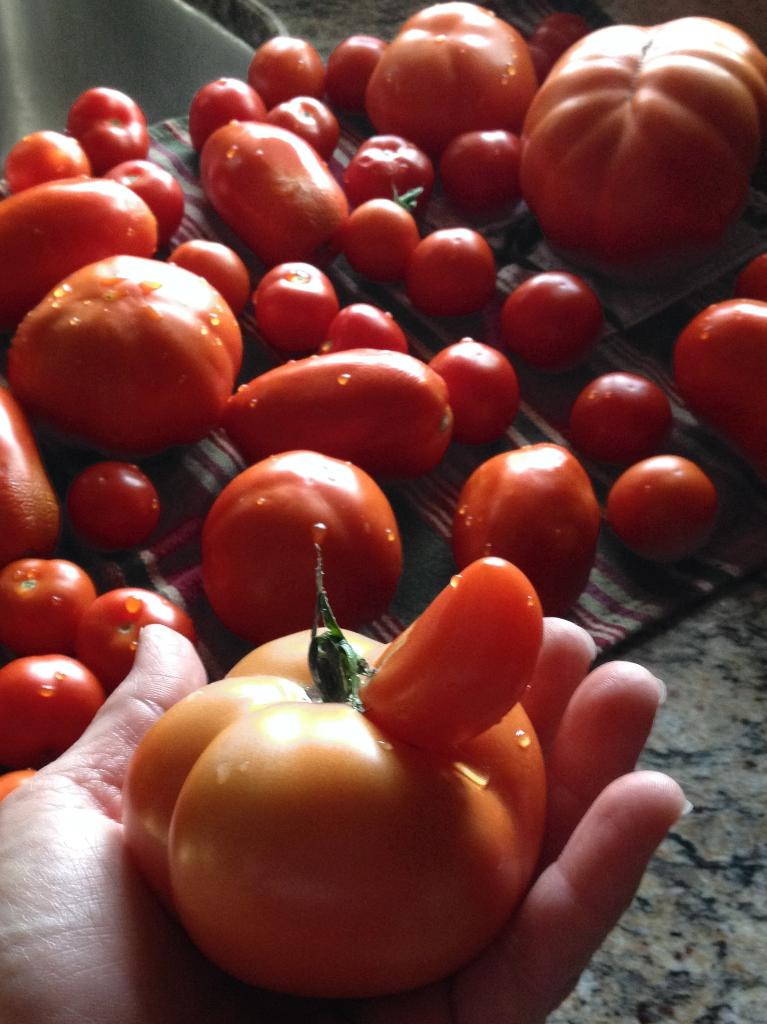Tomato: (0, 0, 766, 801), (148, 523, 581, 981), (673, 296, 766, 469)
